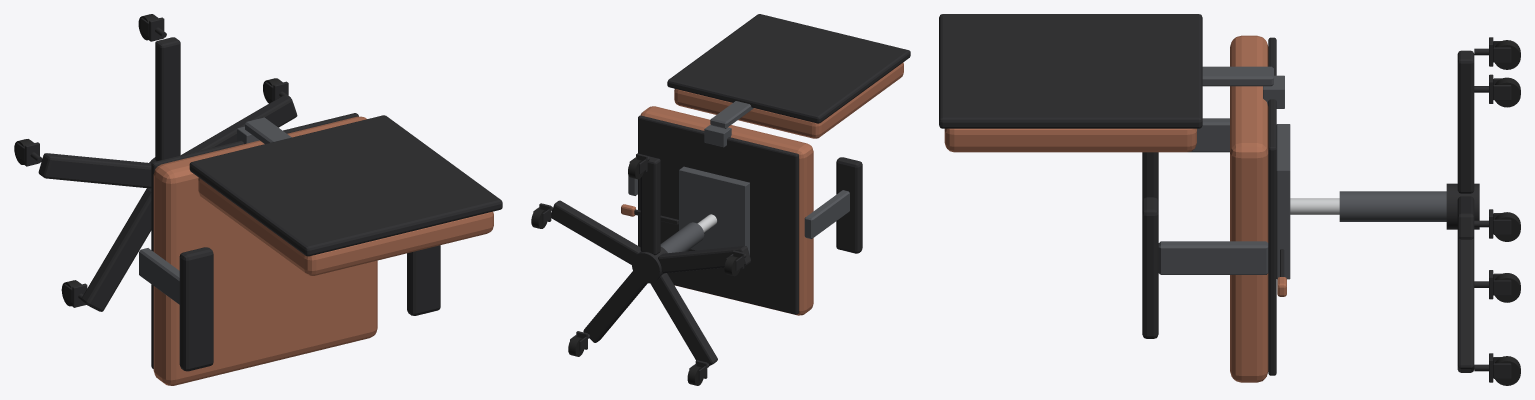
Rendered from Equipment__OfficeChair.glb.
3 renders of one model, left to right at view 1: azimuth 30°, elevation 25°; view 2: azimuth 150°, elevation 25°; view 3: azimuth 270°, elevation 25°, orthographic. The views are drawn at different scales.
Parts seen in each view (by area): view 1: /World/Equipment/OfficeChair/Visual (×4); view 2: /World/Equipment/OfficeChair/Visual (×4); view 3: /World/Equipment/OfficeChair/Visual (×4), /World/Equipment/OfficeChair/Visual/swivel_office_chair_lift.
Part boxes in pixels (x1,y1,x2,y2): /World/Equipment/OfficeChair/Visual (×4): (14,14,502,385); /World/Equipment/OfficeChair/Visual (×4): (531,14,910,385); /World/Equipment/OfficeChair/Visual (×4): (939,14,1520,385); /World/Equipment/OfficeChair/Visual/swivel_office_chair_lift: (1290,198,1339,214).
Size of the model in its own units: 0.6121 by 0.6055 by 1.06.
